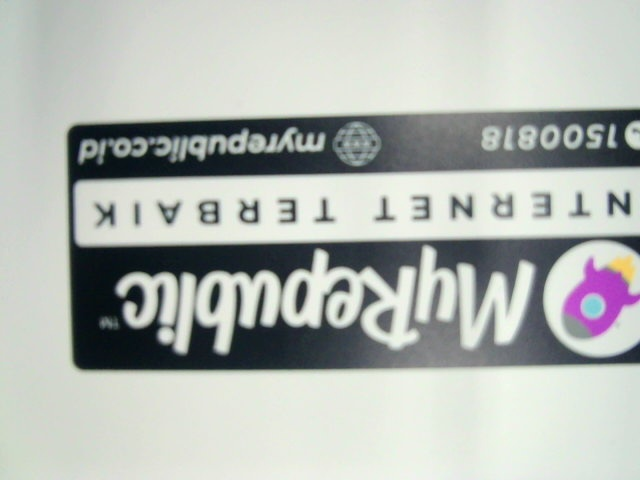BD_MyRepublic: (53, 101, 639, 368)
